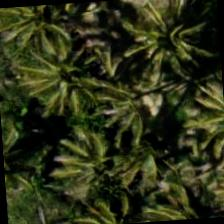Kelapa_Sawit: (66, 60, 162, 156), (96, 102, 192, 198), (21, 25, 117, 121), (121, 0, 218, 90), (10, 0, 104, 72), (0, 120, 54, 214)
